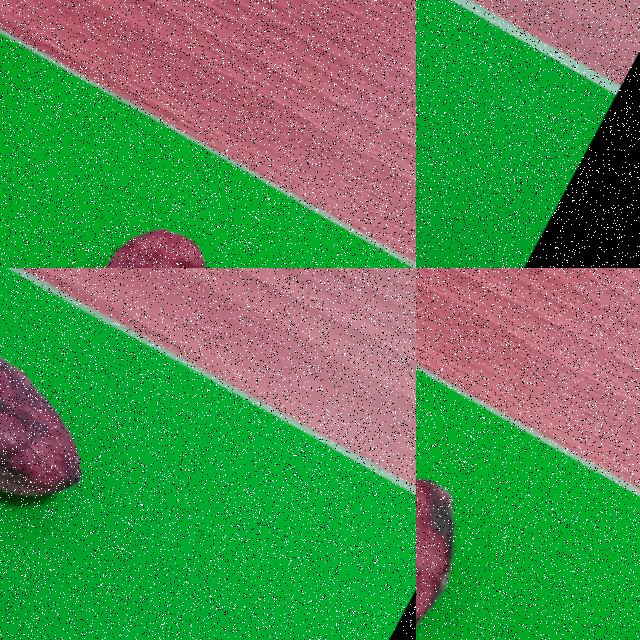Agglomerated_cocoabeans: (416, 0, 481, 267)
Fine_cocoabeans: (0, 268, 203, 602), (0, 97, 359, 267), (416, 409, 557, 639)
